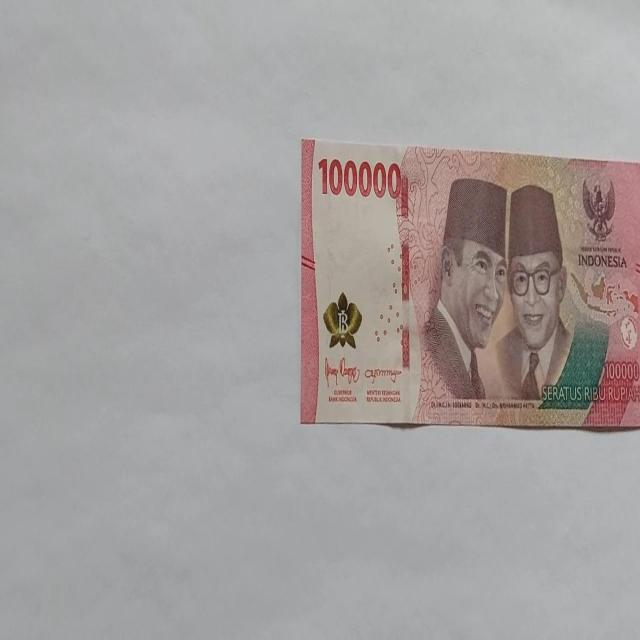Kertas: (300, 137, 638, 429), (317, 155, 402, 200)
